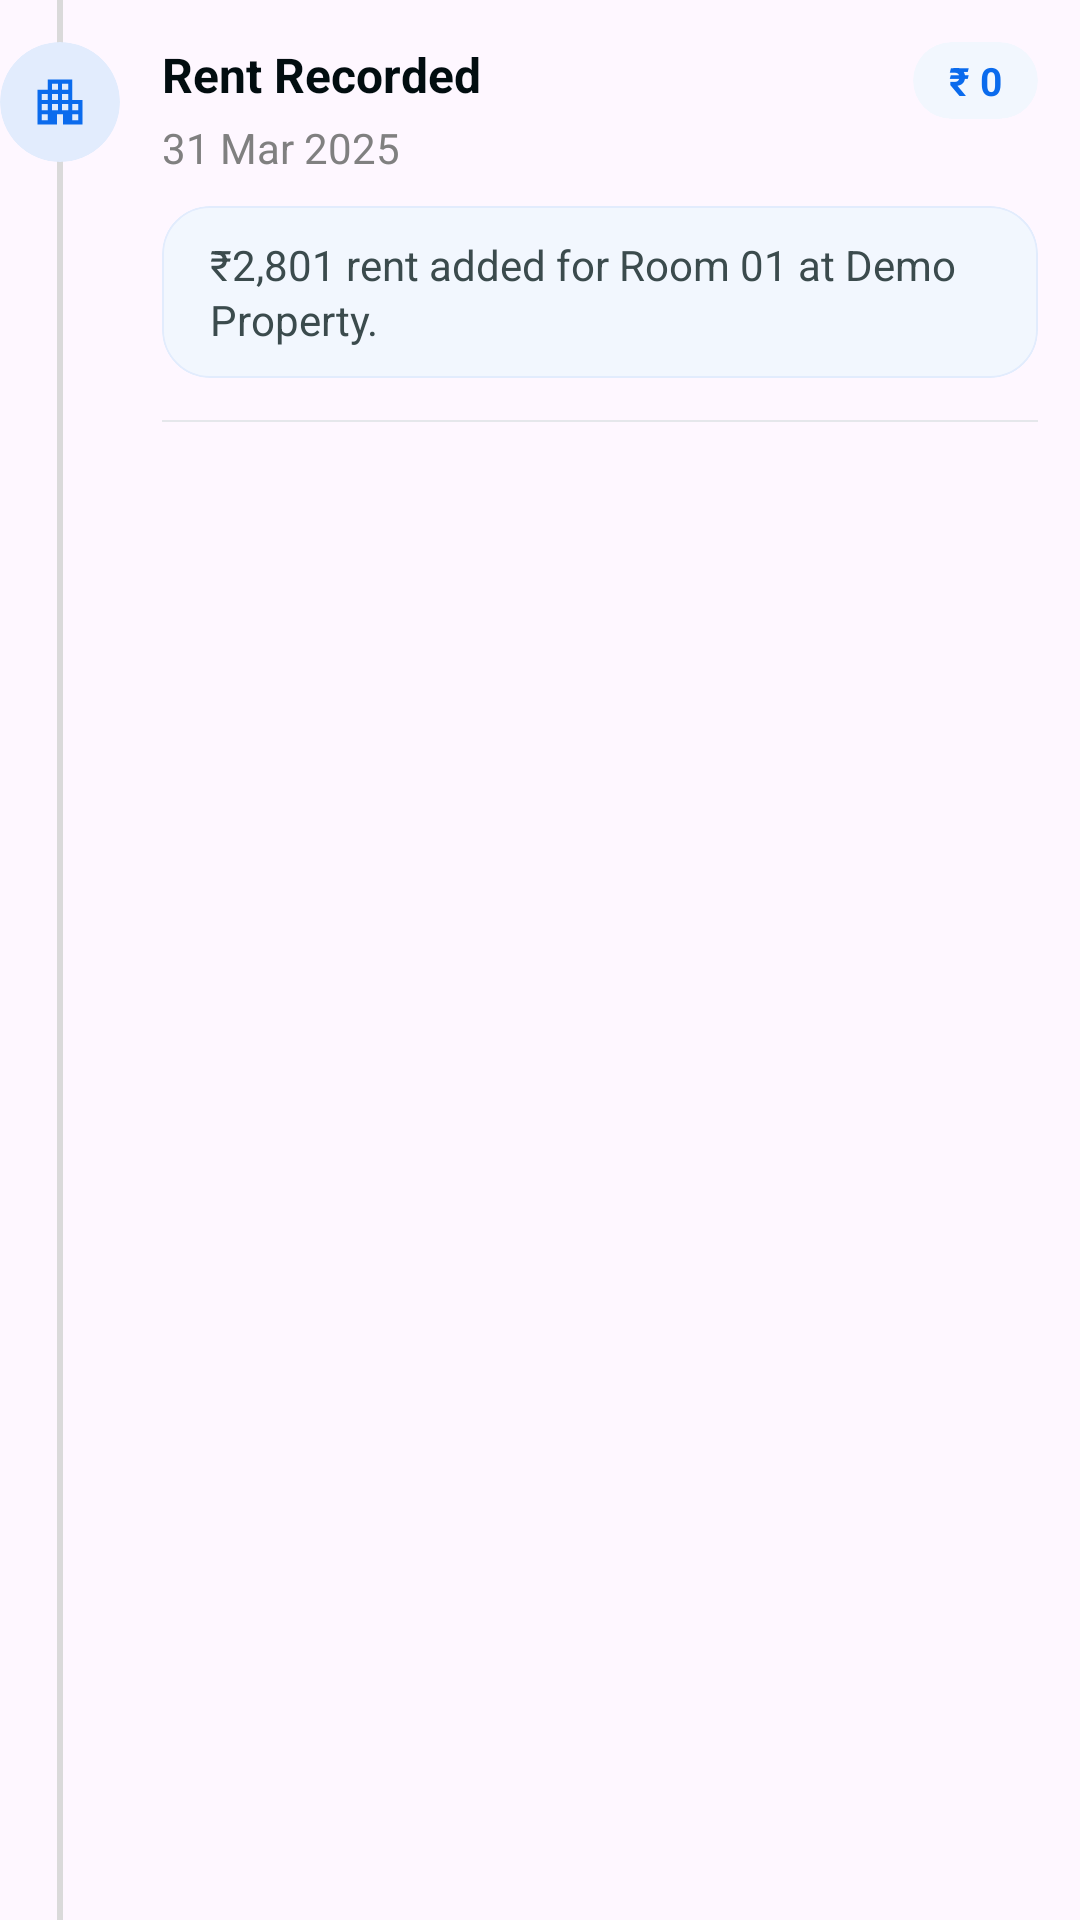

Named icons in this screenshot (1080 × 1920) and their centers, (x,y):
properties: (60,102)
